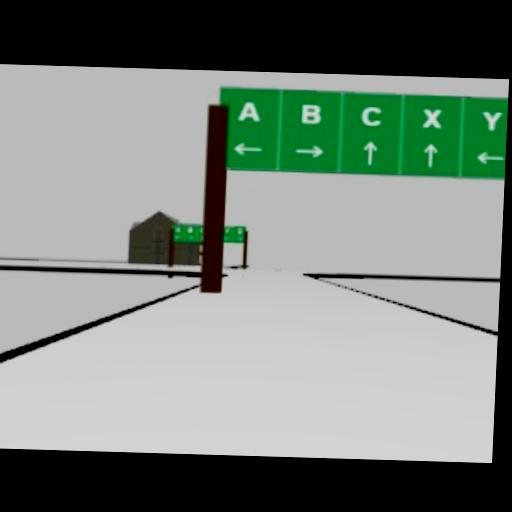A: (236, 99, 261, 124)
B: (299, 102, 324, 127)
C: (361, 105, 384, 127)
Left: (232, 139, 267, 158), (475, 149, 506, 167)
Right: (293, 141, 326, 159)
Straight: (422, 142, 441, 170), (362, 139, 379, 167)
X: (420, 107, 444, 129)
Y: (480, 110, 504, 134)
